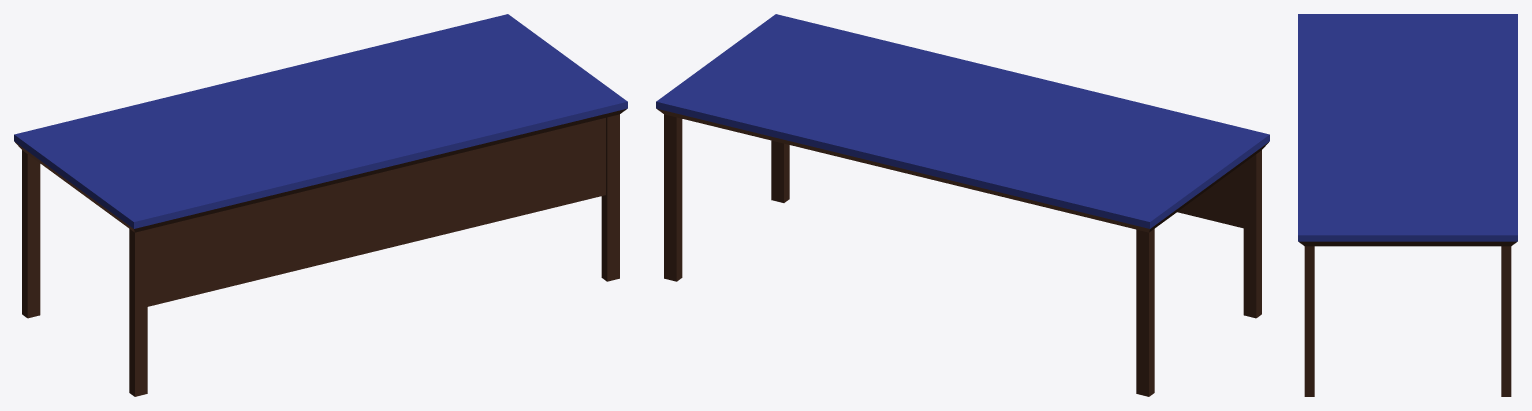
The model's file is H_Desk_Doctor.fbx.
The picture shows the model from 3 angles, left to right: view 1: azimuth 30°, elevation 25°; view 2: azimuth 150°, elevation 25°; view 3: azimuth 270°, elevation 25°; orthographic projection. The views are drawn at different scales.
Visible parts, largest first — view 1: H_Desk_Doctor; view 2: H_Desk_Doctor; view 3: H_Desk_Doctor.
Part boxes in pixels (left/top/right/bottom): H_Desk_Doctor: left=14, top=14, right=627, bottom=396; H_Desk_Doctor: left=656, top=14, right=1269, bottom=396; H_Desk_Doctor: left=1298, top=14, right=1517, bottom=396.
Bounding box in the file's own units: 1297 × 545 × 448.
